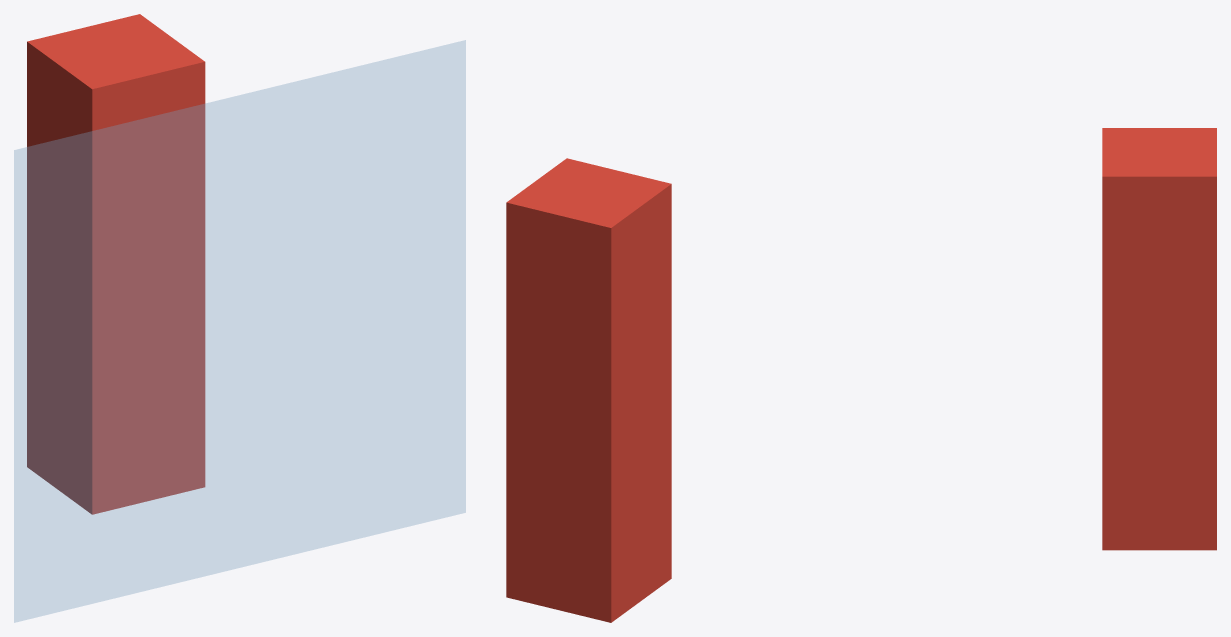
File: verre.glb
The picture shows the model from 3 angles, left to right: view 1: azimuth 30°, elevation 25°; view 2: azimuth 150°, elevation 25°; view 3: azimuth 270°, elevation 25°; orthographic projection. The views are drawn at different scales.
Parts seen in each view (by area): view 1: verre; view 2: verre; view 3: verre.
Part boxes in pixels (bbox=[...]): verre: bbox=[14, 14, 465, 622]; verre: bbox=[506, 158, 671, 622]; verre: bbox=[1102, 128, 1216, 550].
Bounding box in the file's own units: 2 × 2 × 1.2.
